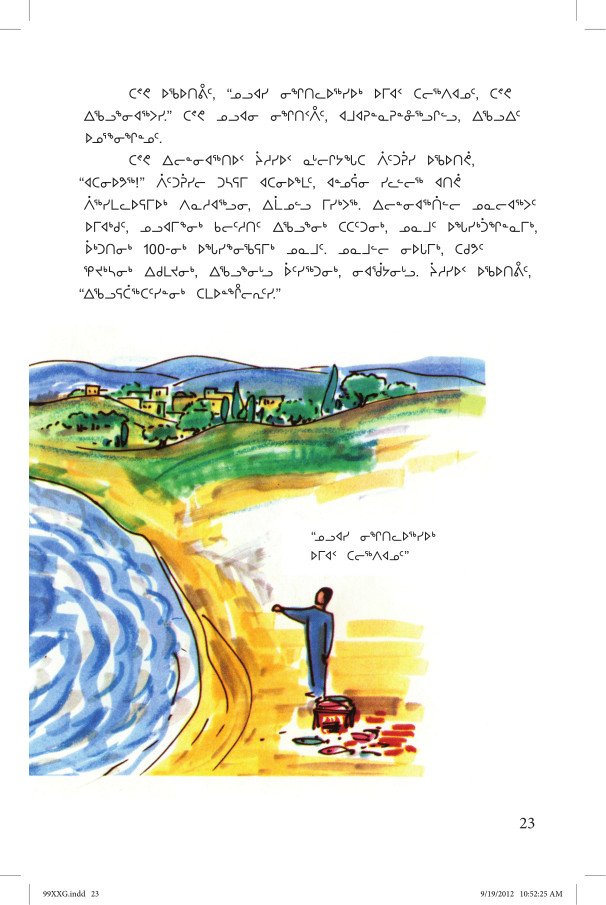inuktitut: (74, 73, 545, 306), (299, 522, 439, 572)
